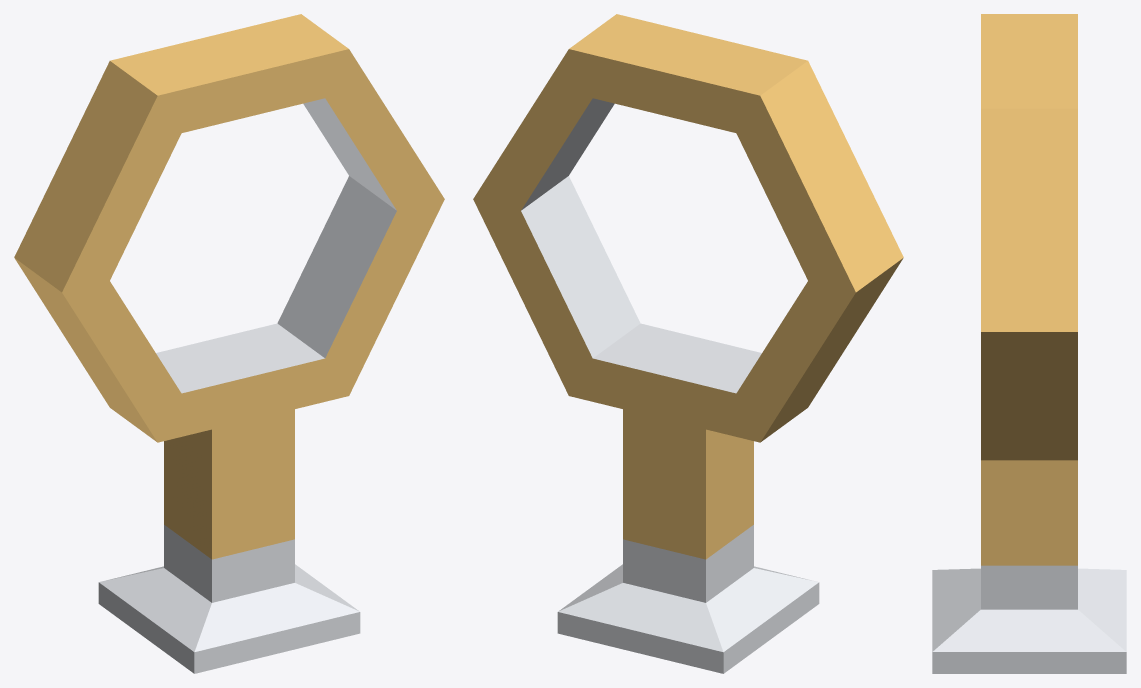
File: pipe_ringSupport.glb
3 views of the same model, side by side, from view 1: azimuth 30°, elevation 25°; view 2: azimuth 150°, elevation 25°; view 3: azimuth 270°, elevation 25° (orthographic).
Parts seen in each view (by area): view 1: pipe_ringSupport; view 2: pipe_ringSupport; view 3: pipe_ringSupport.
Boxes of the visible parts, box(x1,y1,x2,y2) form: pipe_ringSupport: box(14, 14, 444, 673); pipe_ringSupport: box(473, 14, 903, 673); pipe_ringSupport: box(932, 14, 1126, 673).
Bounding box in the file's own units: 1.3 × 1.83 × 0.5616.
